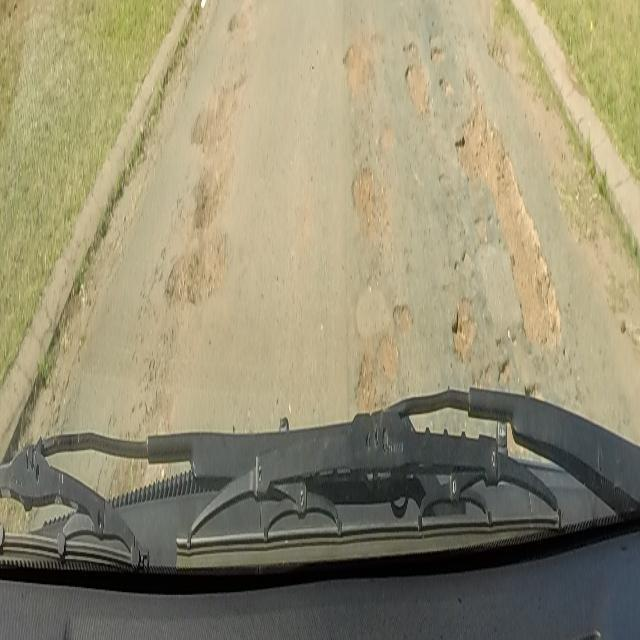pothole: (335, 36, 563, 429), (163, 77, 255, 315), (228, 2, 246, 38)
